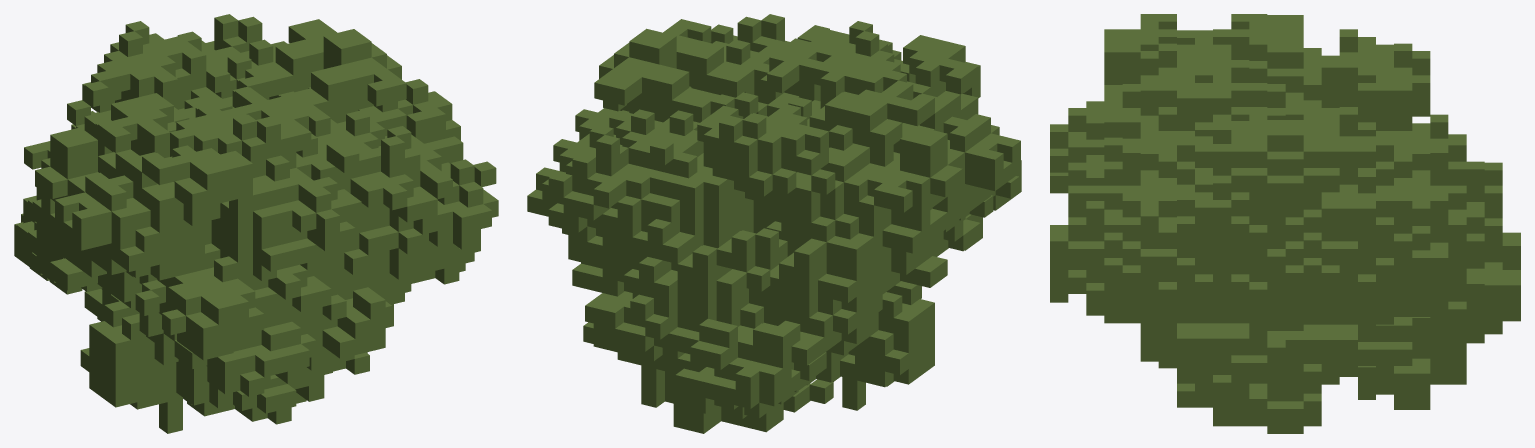
Rendered from good-7.obj.
The picture shows the model from 3 angles, left to right: view 1: azimuth 30°, elevation 25°; view 2: azimuth 150°, elevation 25°; view 3: azimuth 270°, elevation 25°; orthographic projection. The views are drawn at different scales.
Size of the model in its own units: 2.6 by 2.1 by 2.6.
Materials: 1 (1 with a texture image).
